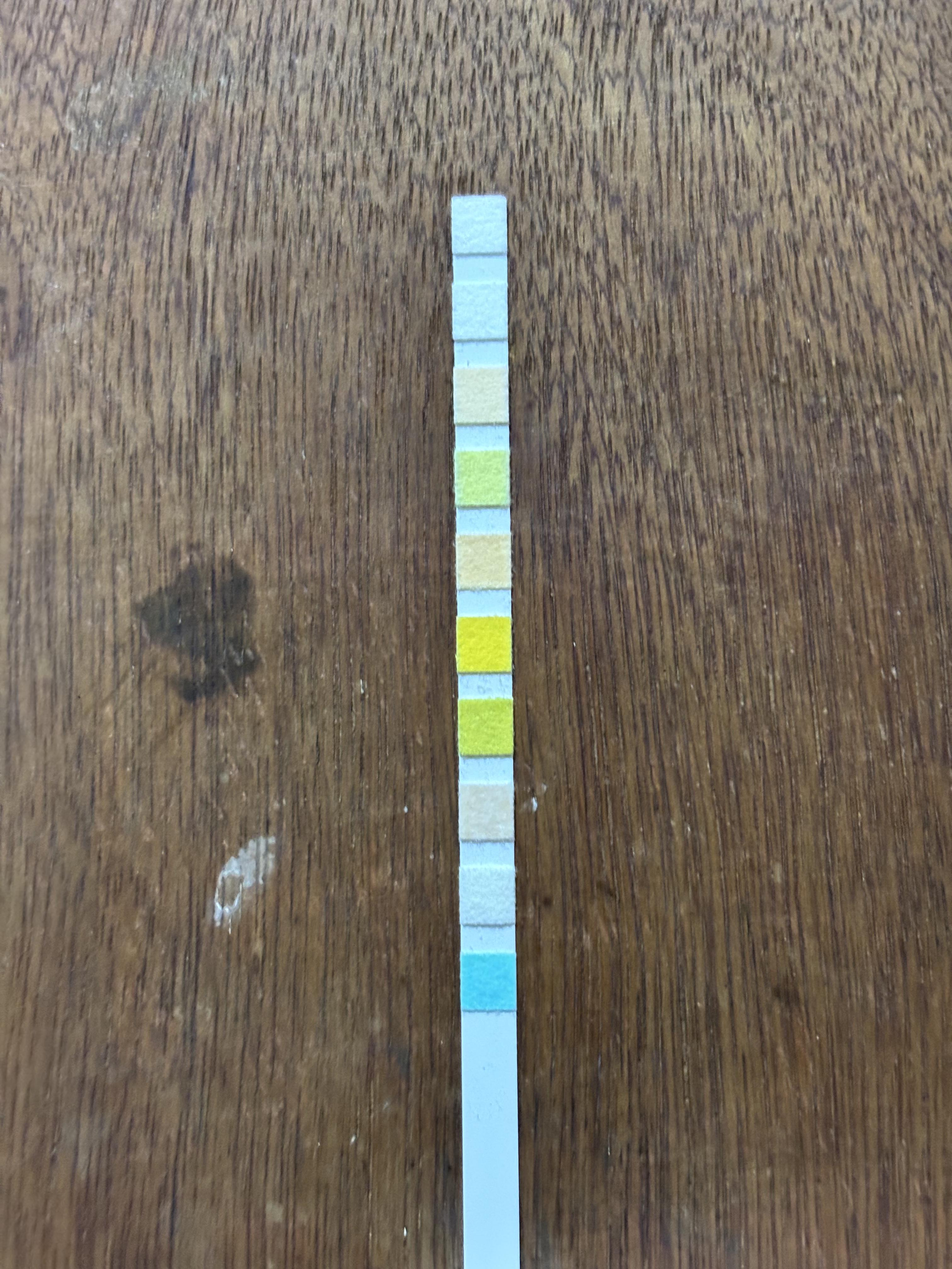Bilirubin: (462, 867, 513, 922)
Blood: (459, 617, 510, 671)
Glucose: (464, 955, 516, 1010)
Ketone: (460, 784, 512, 839)
Leukocytes: (454, 199, 506, 254)
Nitrite: (455, 282, 507, 337)
Protein: (457, 450, 509, 504)
SpGravity: (461, 698, 513, 753)
Urobilinogen: (457, 367, 509, 421)
pH: (459, 534, 510, 589)
strip: (452, 198, 519, 1168)
